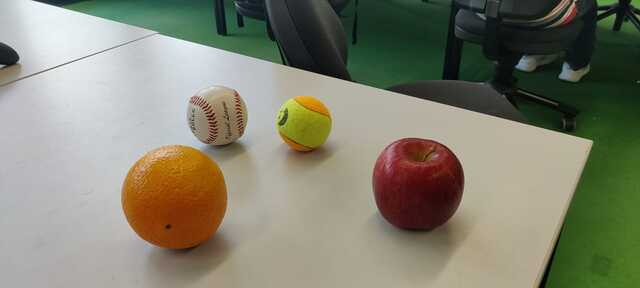013_apple: (371, 138, 462, 229)
017_orange: (120, 144, 230, 251)
055_baseball: (186, 85, 249, 146)
056_tennis_ball: (275, 94, 333, 153)
